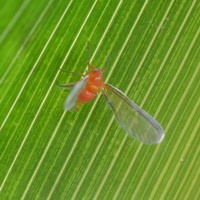insect: (59, 64, 163, 143)
